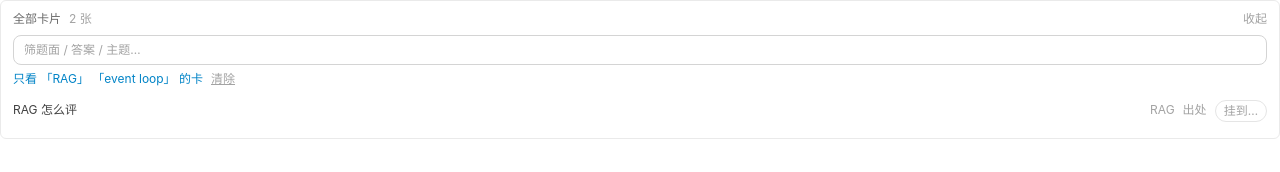
Test: CardList › ?topic= 进来就直接展开并只看这些话题词的卡，筛着的时候说得出来也撤得掉
Expected: the text "RAG 怎么评" is shown, 13,102 -> 77,116
Expected: the text "晚上吃什么" is not shown
Click the button "清除" at (223, 79), box 211,71 -> 235,87
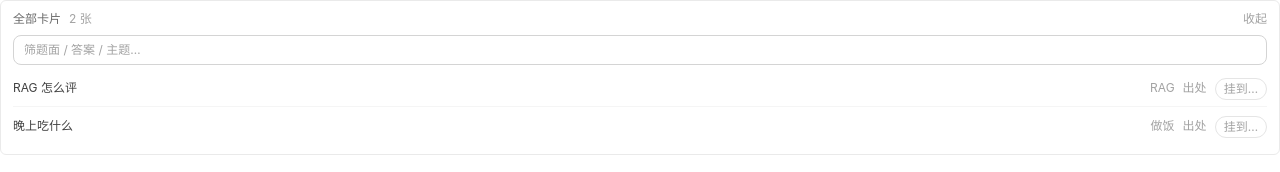
Expected: the text "晚上吃什么" is shown, 13,118 -> 73,132
